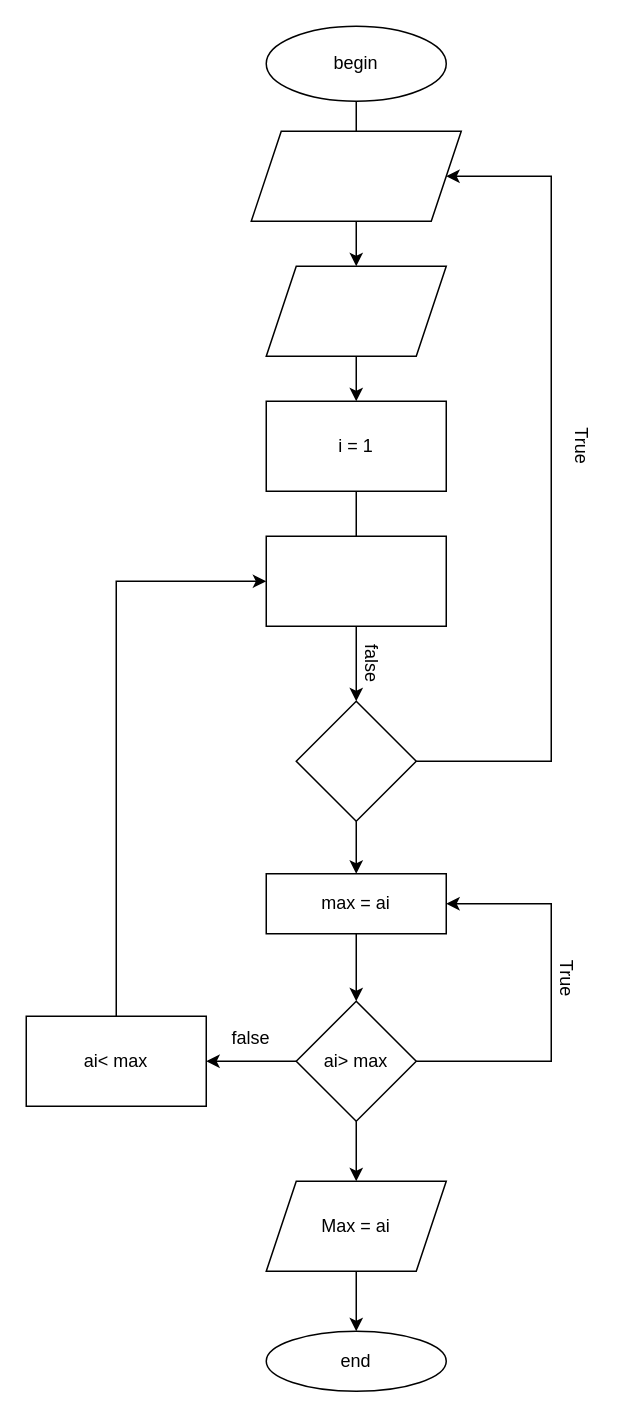
The diagram is 630 pixels wide and 1418 high, and some of its shapes have lost their labels. The centre of each missing label's shape, as x and y in pixels:
"i = i +1" belongs at (x=355, y=580).
"i<=n" belongs at (x=355, y=760).
"input a1,a2,a3,... ai" belongs at (x=355, y=175).
"input n" belongs at (x=355, y=310).
